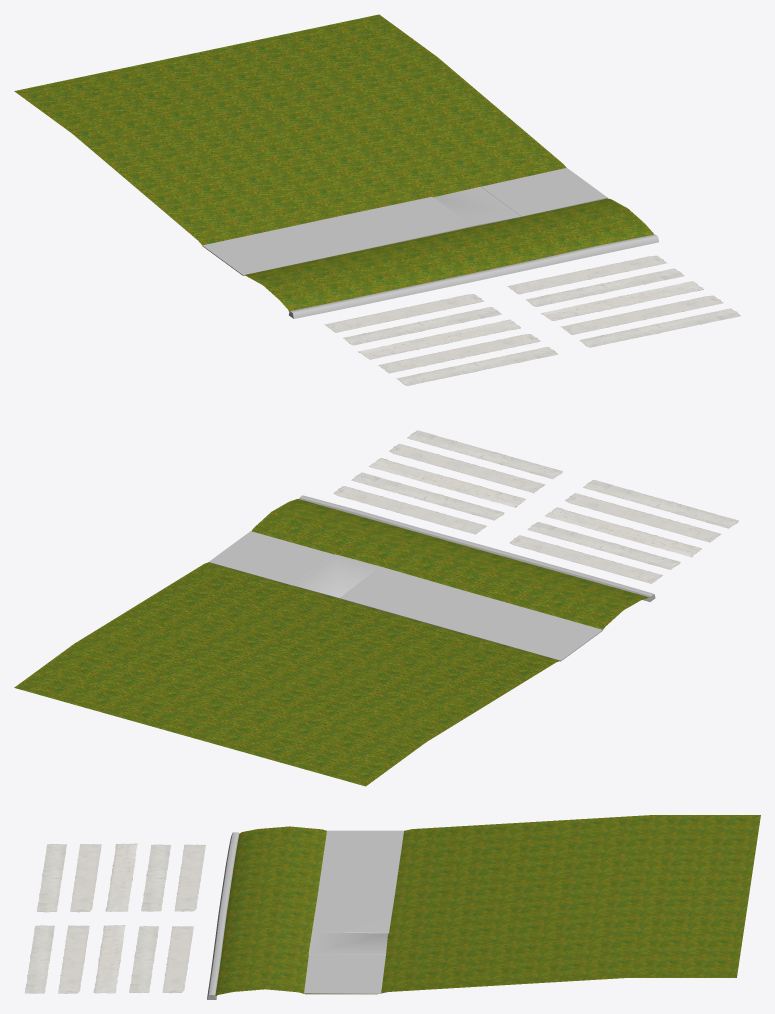
Rendered from Road_8x_5.fbx.
The picture shows the model from 3 angles, top to bottom: view 1: azimuth 30°, elevation 25°; view 2: azimuth 150°, elevation 25°; view 3: azimuth 270°, elevation 25°; orthographic projection. The views are drawn at different scales.
Parts seen in each view (by area): view 1: Road_8x_5; view 2: Road_8x_5; view 3: Road_8x_5.
Part boxes in pixels (bbox=[...]): Road_8x_5: bbox=[14, 14, 740, 385]; Road_8x_5: bbox=[14, 430, 738, 786]; Road_8x_5: bbox=[24, 815, 760, 999].
Bounding box in the file's own units: 801 × 50.07 × 1550.
